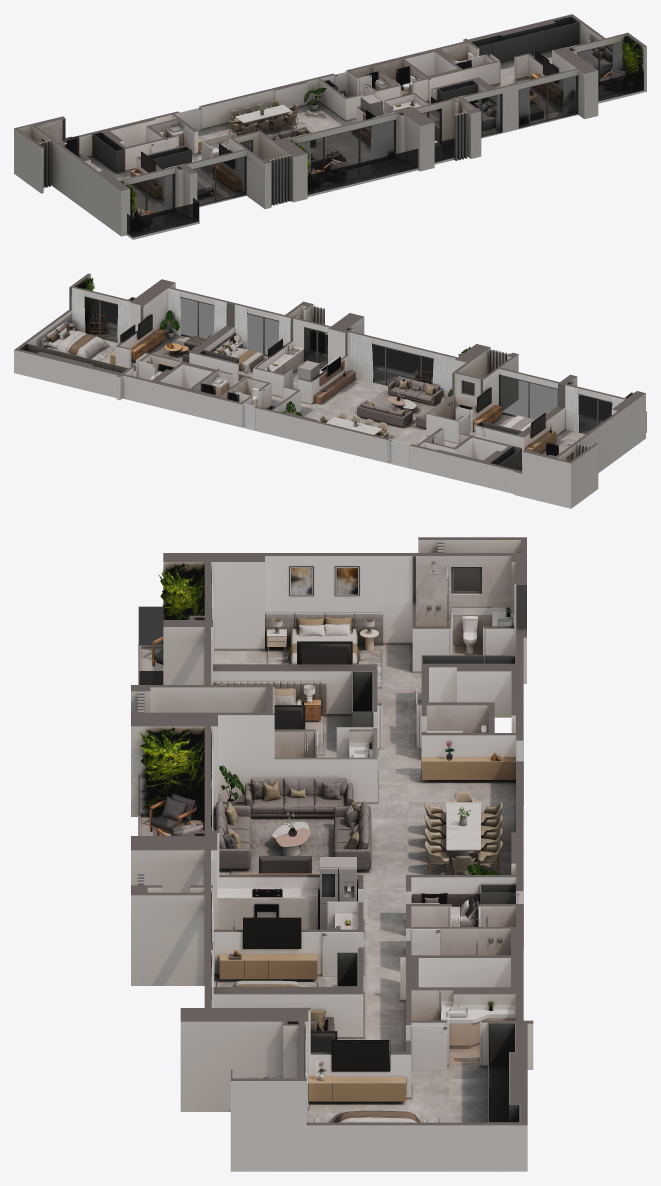
Rendered from apartment.glb.
3 views of the same model, one above another, from view 1: azimuth 30°, elevation 25°; view 2: azimuth 150°, elevation 25°; view 3: azimuth 270°, elevation 25° (orthographic). The views are drawn at different scales.
Visible parts, largest first — view 1: Object_8, Object_4, Object_6, Object_11; view 2: Object_8, Object_4, Object_6, Object_13, Object_11; view 3: Object_8, Object_6, Object_11, Object_4.
Boxes of the visible parts, x1,y1,x2,y2 form: Object_8: (14,14,646,239); Object_4: (43,42,643,237); Object_6: (134,48,625,222); Object_11: (127,38,643,229); Object_8: (14,273,646,508); Object_4: (84,297,646,461); Object_6: (46,311,571,457); Object_13: (160,310,551,434); Object_11: (78,277,634,398); Object_8: (131,537,533,1171); Object_6: (161,617,479,1122); Object_11: (140,563,281,1078); Object_4: (138,568,487,1077).
Size of the model in its own units: 31.56 by 2.72 by 9.95.
5 materials, 4 textured.
